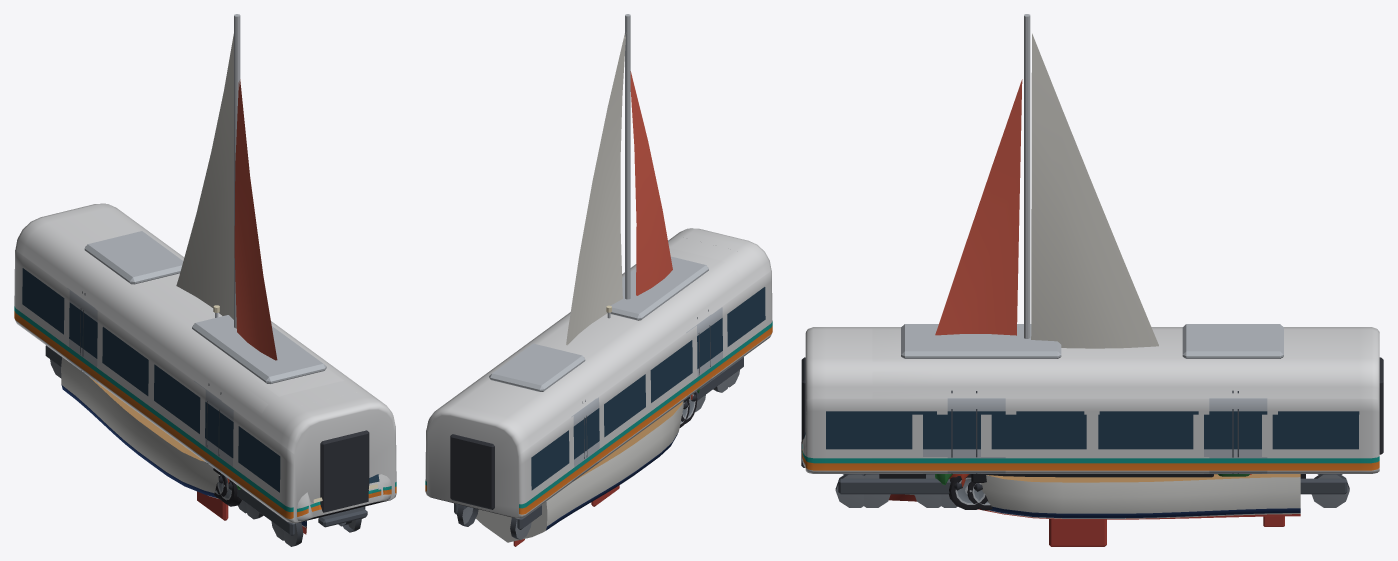
The model's file is cars.glb.
3 renders of one model, left to right at view 1: azimuth 30°, elevation 25°; view 2: azimuth 150°, elevation 25°; view 3: azimuth 270°, elevation 25°, orthographic. The views are drawn at different scales.
Visible parts, largest first — view 1: train_mid, sailboat, train_head; view 2: train_mid, train_head, sailboat; view 3: train_mid, sailboat, train_head, garbage-truck.
Part boxes in pixels (box(x1,y1,x2,y2)): train_mid: box(16, 204, 396, 546); sailboat: box(61, 14, 306, 534); train_head: box(14, 203, 391, 540); train_mid: box(438, 228, 772, 534); train_head: box(425, 248, 745, 539); sailboat: box(476, 14, 683, 546); train_mid: box(801, 324, 1380, 507); sailboat: box(889, 14, 1300, 546); train_head: box(801, 324, 1383, 507); garbage-truck: box(935, 474, 1251, 509).
Bounding box in the file's own units: 2.7 × 12.1 × 12.02.
